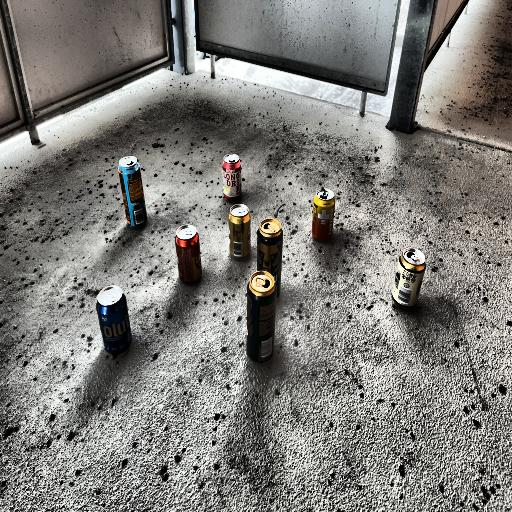coop_larger: (168, 224, 209, 288)
karhu: (243, 271, 276, 365)
koff: (220, 146, 244, 199)
koti: (92, 282, 138, 361), (223, 200, 251, 263)
sandels: (392, 244, 427, 314)
